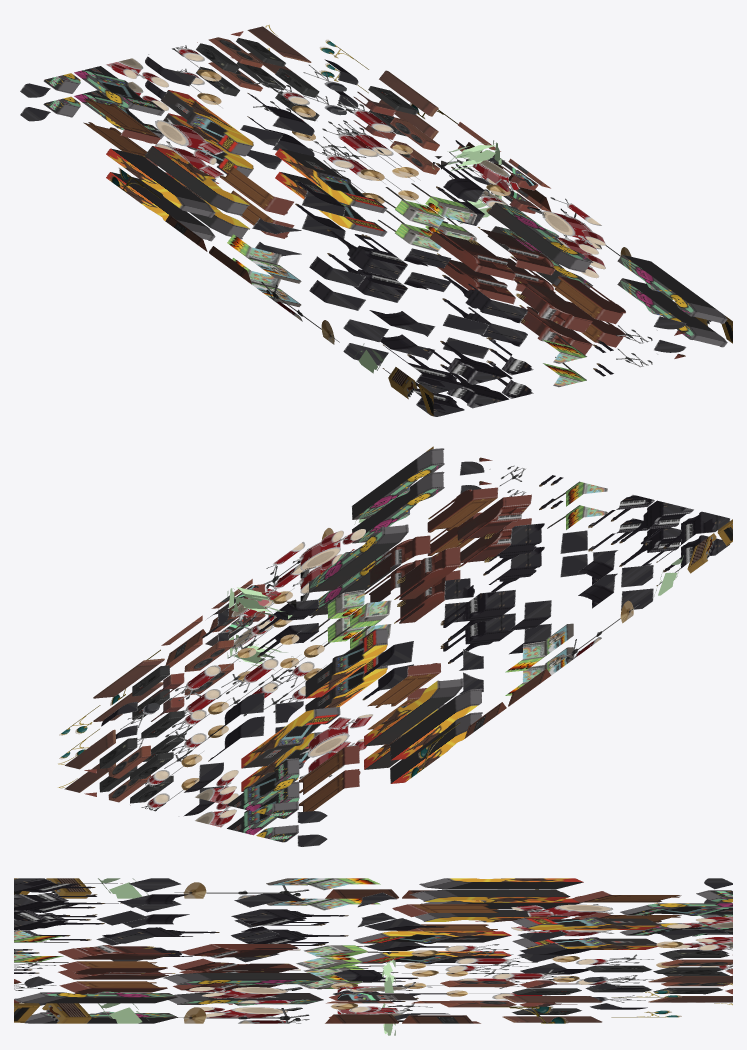
3 renders of one model, top to bottom at view 1: azimuth 30°, elevation 25°; view 2: azimuth 150°, elevation 25°; view 3: azimuth 270°, elevation 25°, orthographic. The views are drawn at different scales.
Bounding box in the file's own units: 0.8 × 0.1734 × 1.94.
